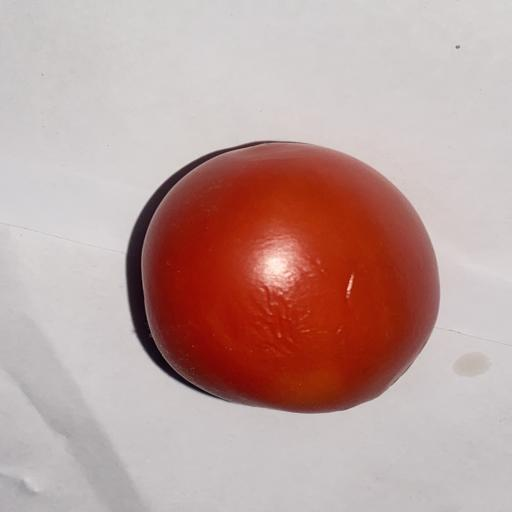overipe: (142, 143, 439, 412)
